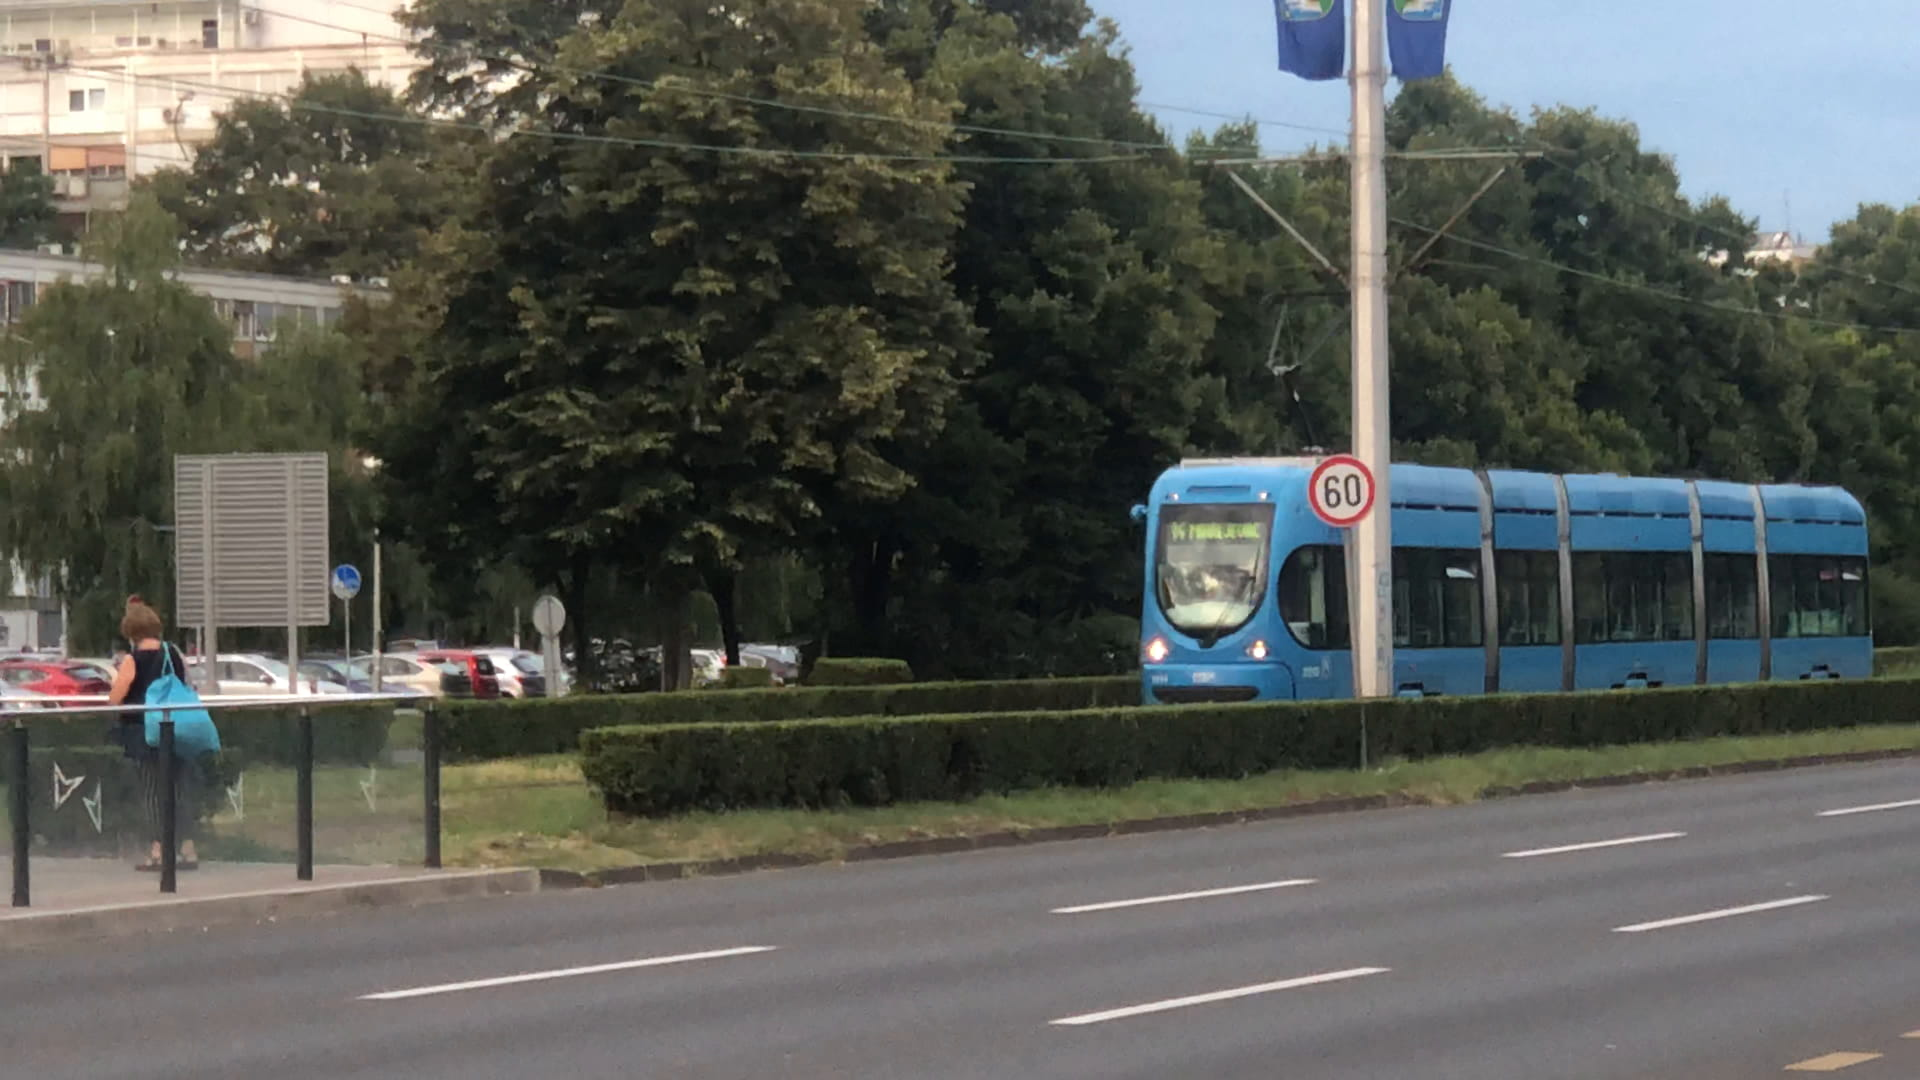tramvaj: (1135, 446, 1880, 711)
